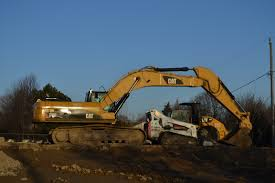excavator: (31, 64, 261, 159)
